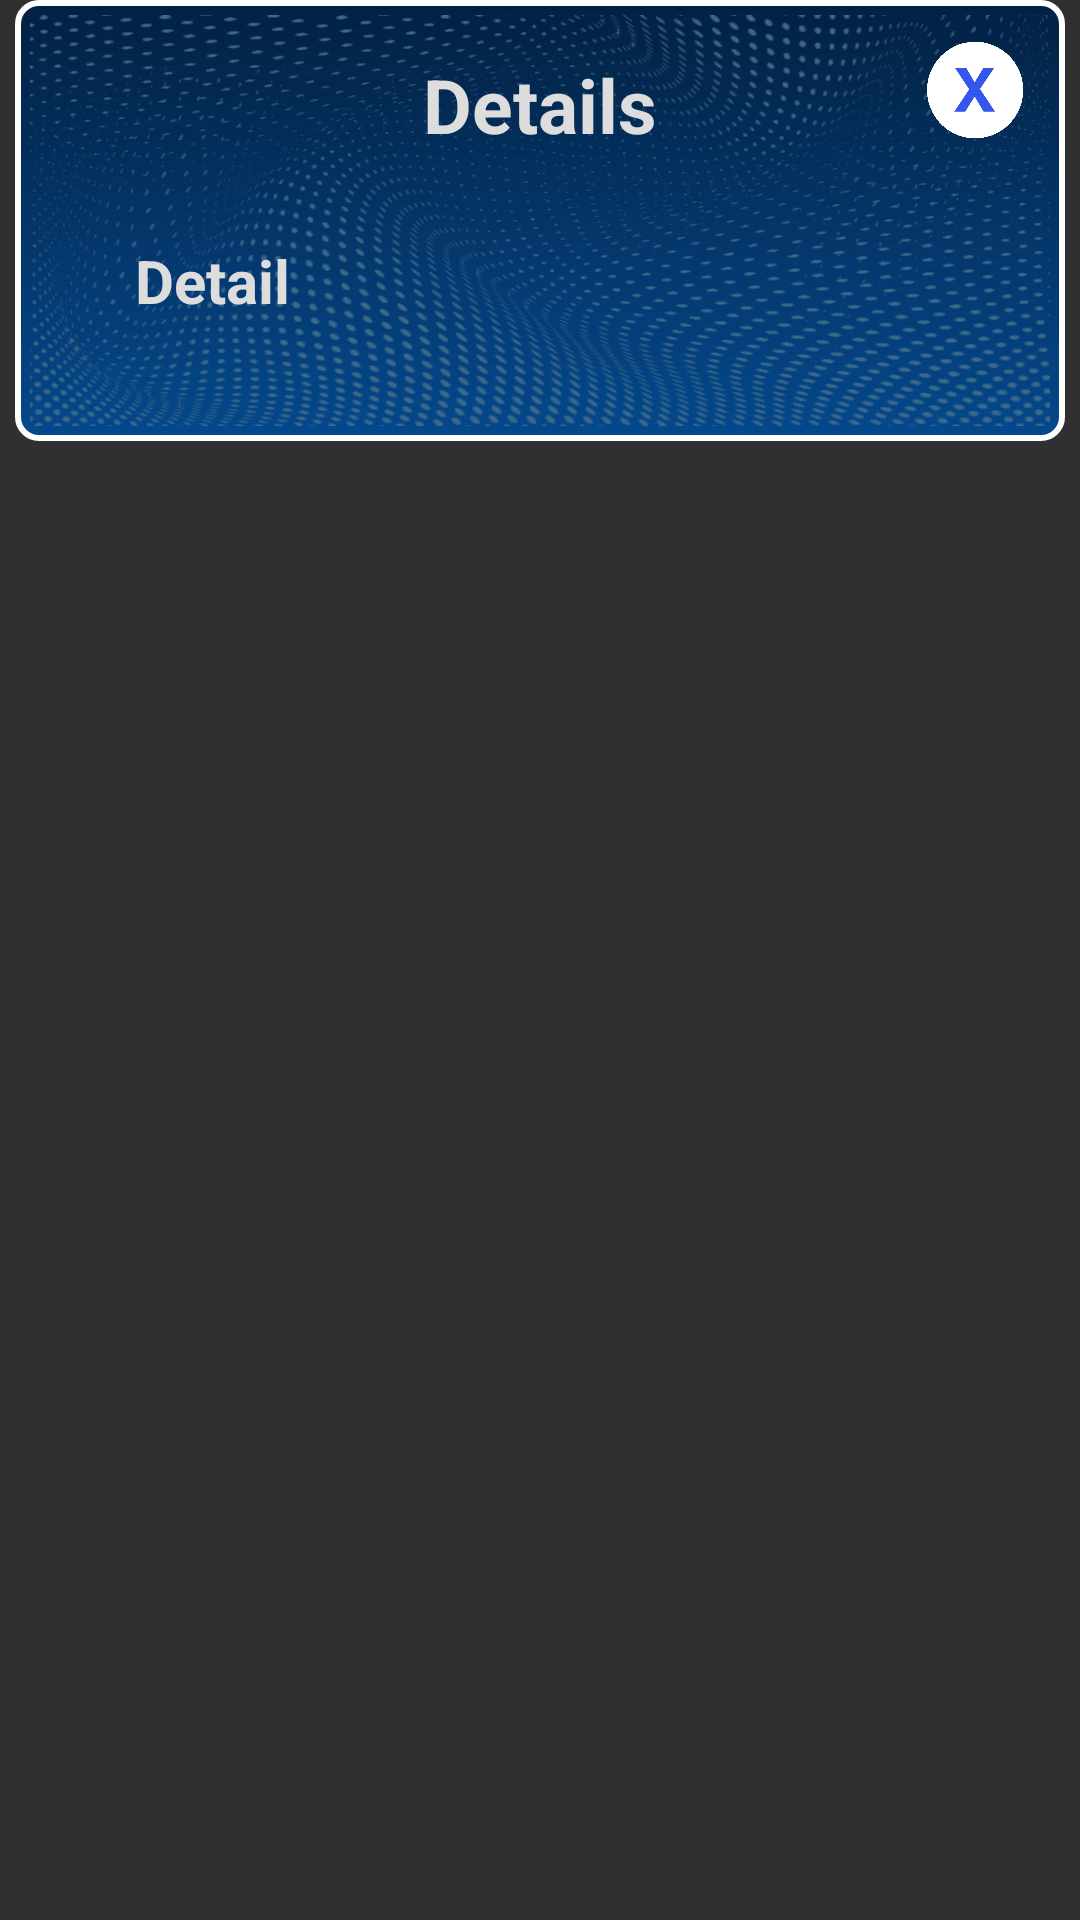

Icon bounding boxes for this 1080×1920 phone screenshot, format (x1, y1, x2, y2):
close: (915, 30, 1033, 150)
